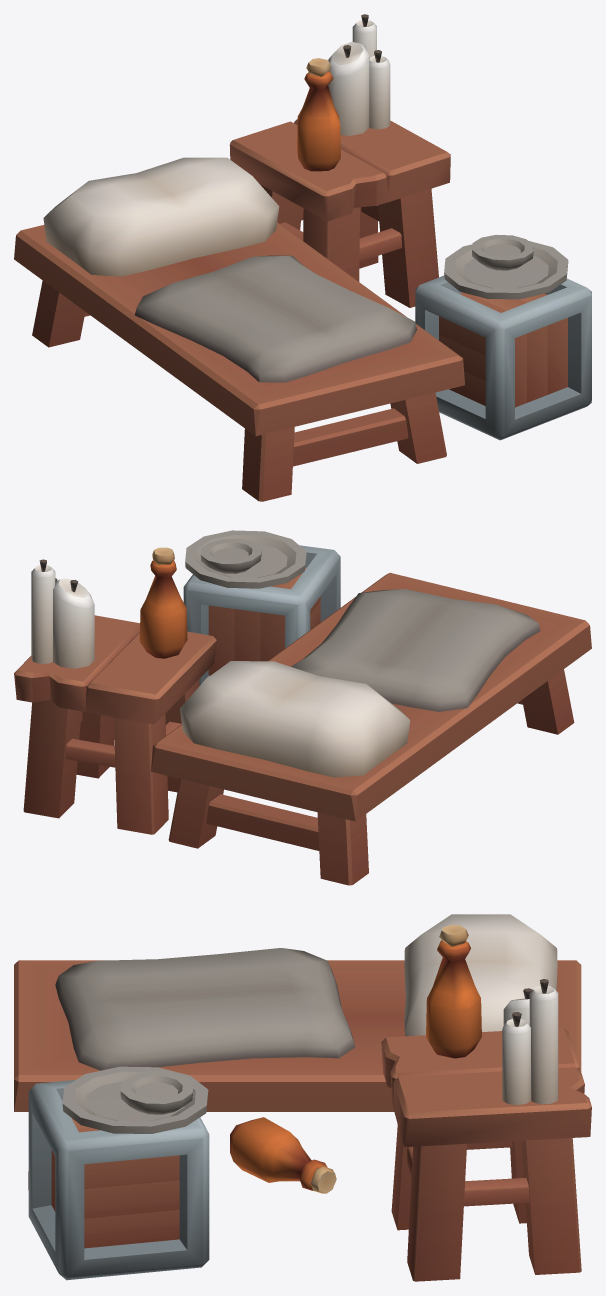
The model's file is bed_decorated.glb.
3 views of the same model, one above another, from view 1: azimuth 30°, elevation 25°; view 2: azimuth 150°, elevation 25°; view 3: azimuth 270°, elevation 25° (orthographic). The views are drawn at different scales.
Visible parts, largest first — view 1: bed_decorated; view 2: bed_decorated; view 3: bed_decorated.
Boxes of the visible parts, x1=… form: bed_decorated: x1=14, y1=14, x2=591, y2=501; bed_decorated: x1=14, y1=530, x2=591, y2=885; bed_decorated: x1=14, y1=914, x2=591, y2=1281.
Size of the model in its own units: 2.61 by 1.7 by 3.06.
1 material, 1 textured.
